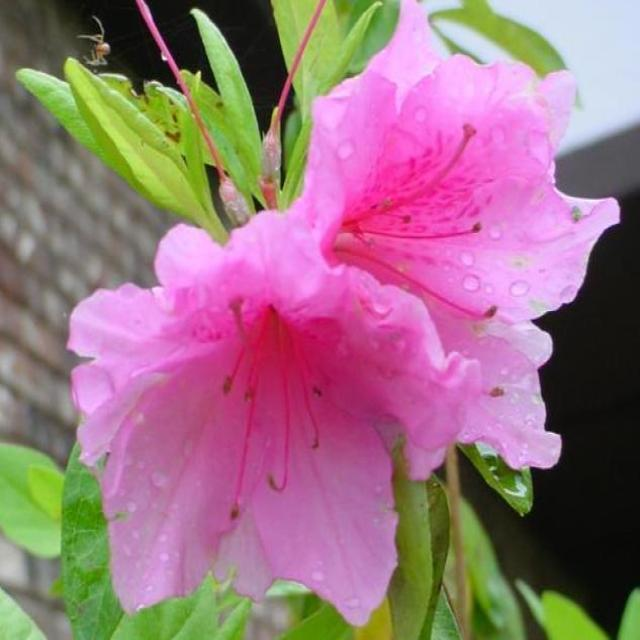azalea: (77, 216, 416, 630), (243, 50, 592, 447)
